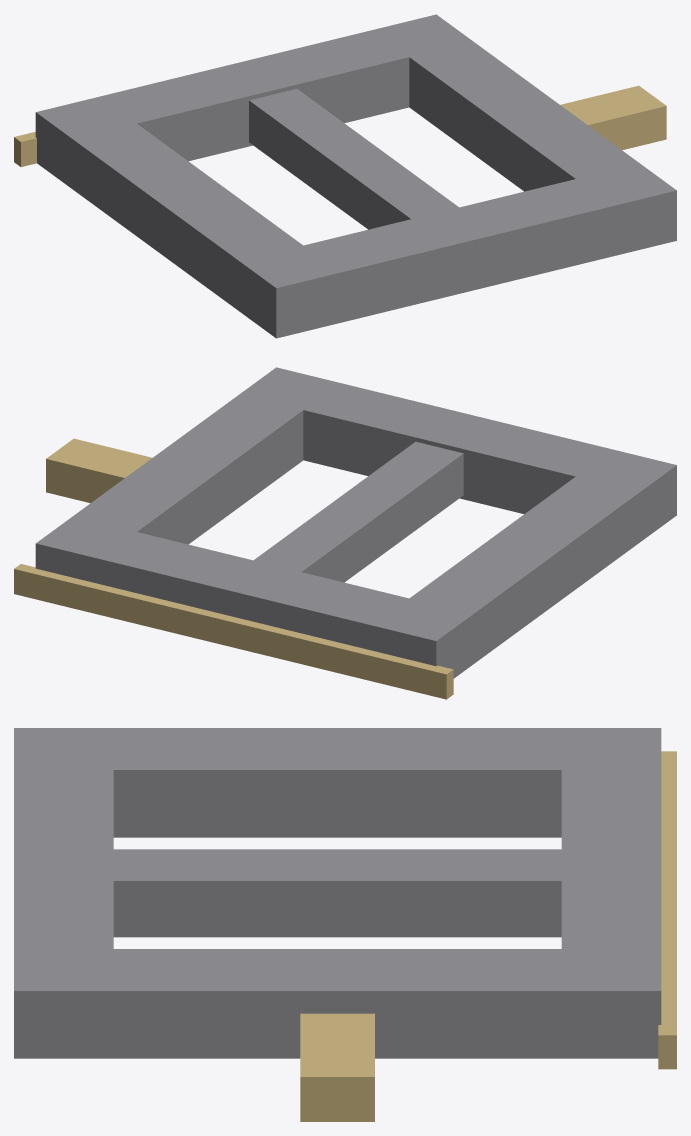
File: prop-buckle-blank.fbx
The picture shows the model from 3 angles, top to bottom: view 1: azimuth 30°, elevation 25°; view 2: azimuth 150°, elevation 25°; view 3: azimuth 270°, elevation 25°; orthographic projection. The views are drawn at different scales.
Parts seen in each view (by area): view 1: prop-buckle-blank; view 2: prop-buckle-blank; view 3: prop-buckle-blank.
Boxes of the visible parts, x1,y1,x2,y2 form: prop-buckle-blank: (14,14,676,338); prop-buckle-blank: (14,367,676,699); prop-buckle-blank: (14,728,676,1121).
Size of the model in its own units: 6.4 by 0.6 by 5.33.
